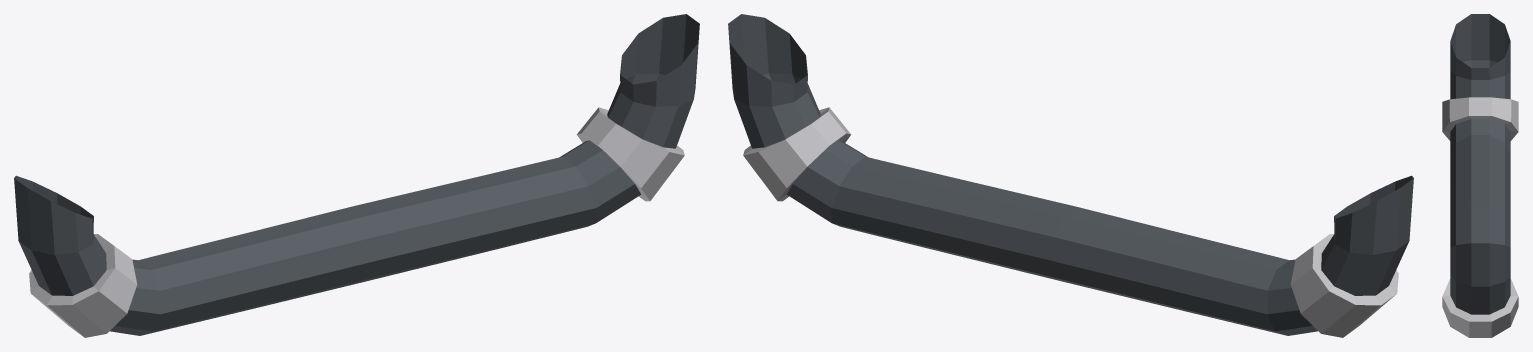
File: Dropship_03_Piping_Big.fbx
3 views of the same model, side by side, from view 1: azimuth 30°, elevation 25°; view 2: azimuth 150°, elevation 25°; view 3: azimuth 270°, elevation 25° (orthographic). The views are drawn at different scales.
Parts seen in each view (by area): view 1: Dropship_03_Piping_Big; view 2: Dropship_03_Piping_Big; view 3: Dropship_03_Piping_Big.
Part boxes in pixels (x1,y1,x2,y2): Dropship_03_Piping_Big: [14, 14, 699, 337]; Dropship_03_Piping_Big: [728, 14, 1413, 337]; Dropship_03_Piping_Big: [1442, 14, 1518, 337].
Size of the model in its own units: 284 by 71.02 by 39.79.
1 material, 1 textured.
